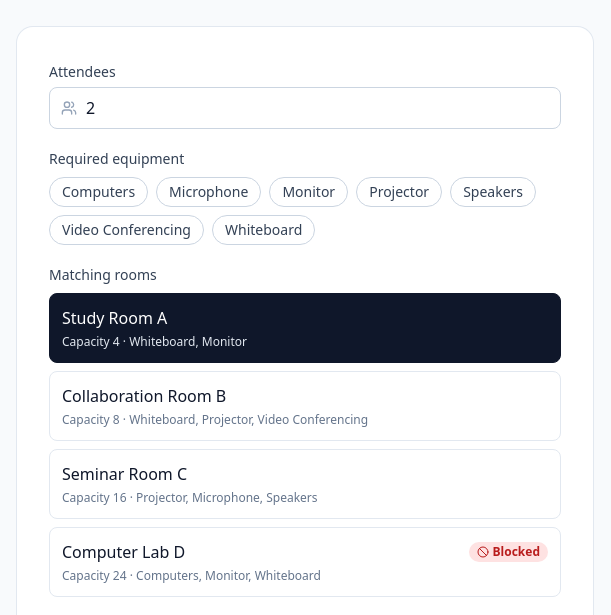
Explain availability (mock adapter UI) › clears the previous explanation when the requested time changes (no stale response)
Later steps or results of the test are not shown.
Click the button "Collaboration Room B": (144, 396) left=49, top=371, right=561, bottom=441
(page scrolled)
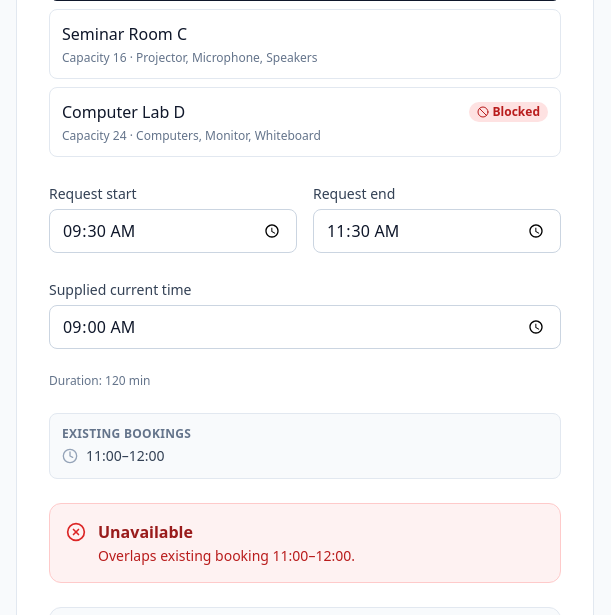
Replace the text in the time field labelled "Request start" with "10:30": (173, 231) left=49, top=209, right=297, bottom=253
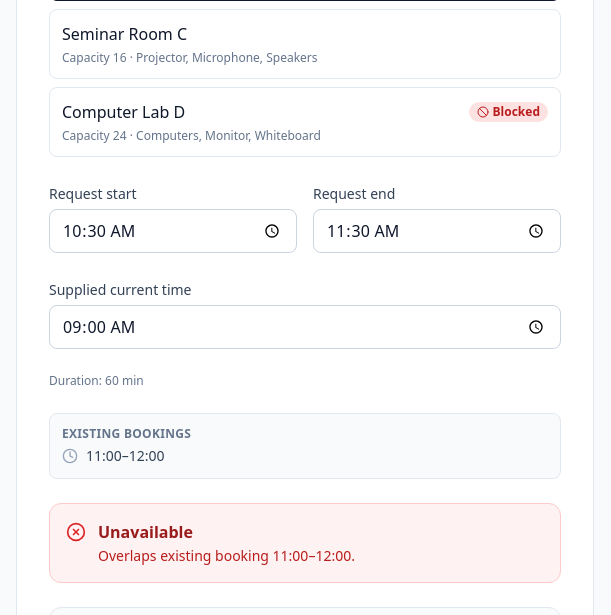
Replace the text in the time field labelled "Request end" with "11:00": (437, 231) left=313, top=209, right=561, bottom=253
(page scrolled)
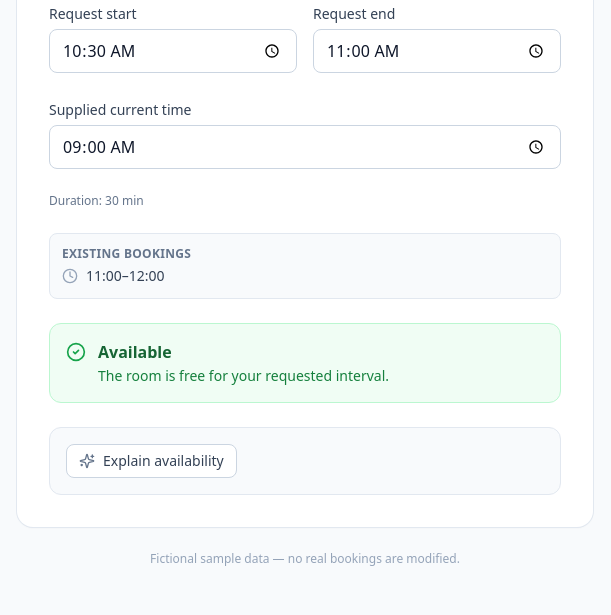
Click the button "Explain availability": (151, 461) left=66, top=444, right=237, bottom=478
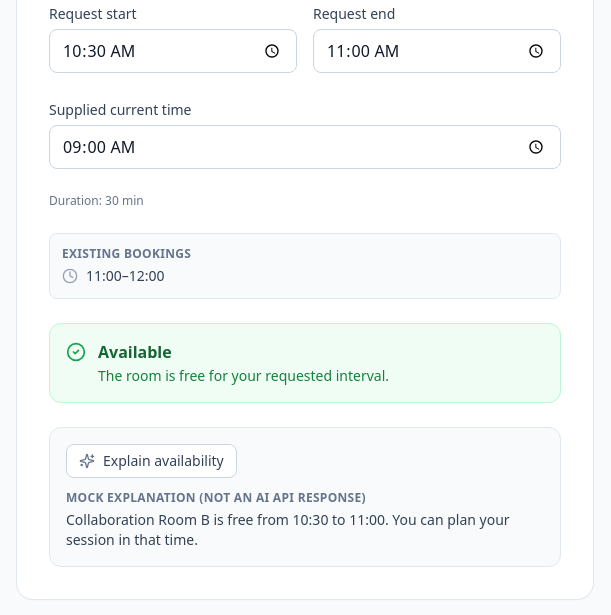
Now the text "free from 10:30" is shown, box left=66, top=510, right=510, bottom=549
